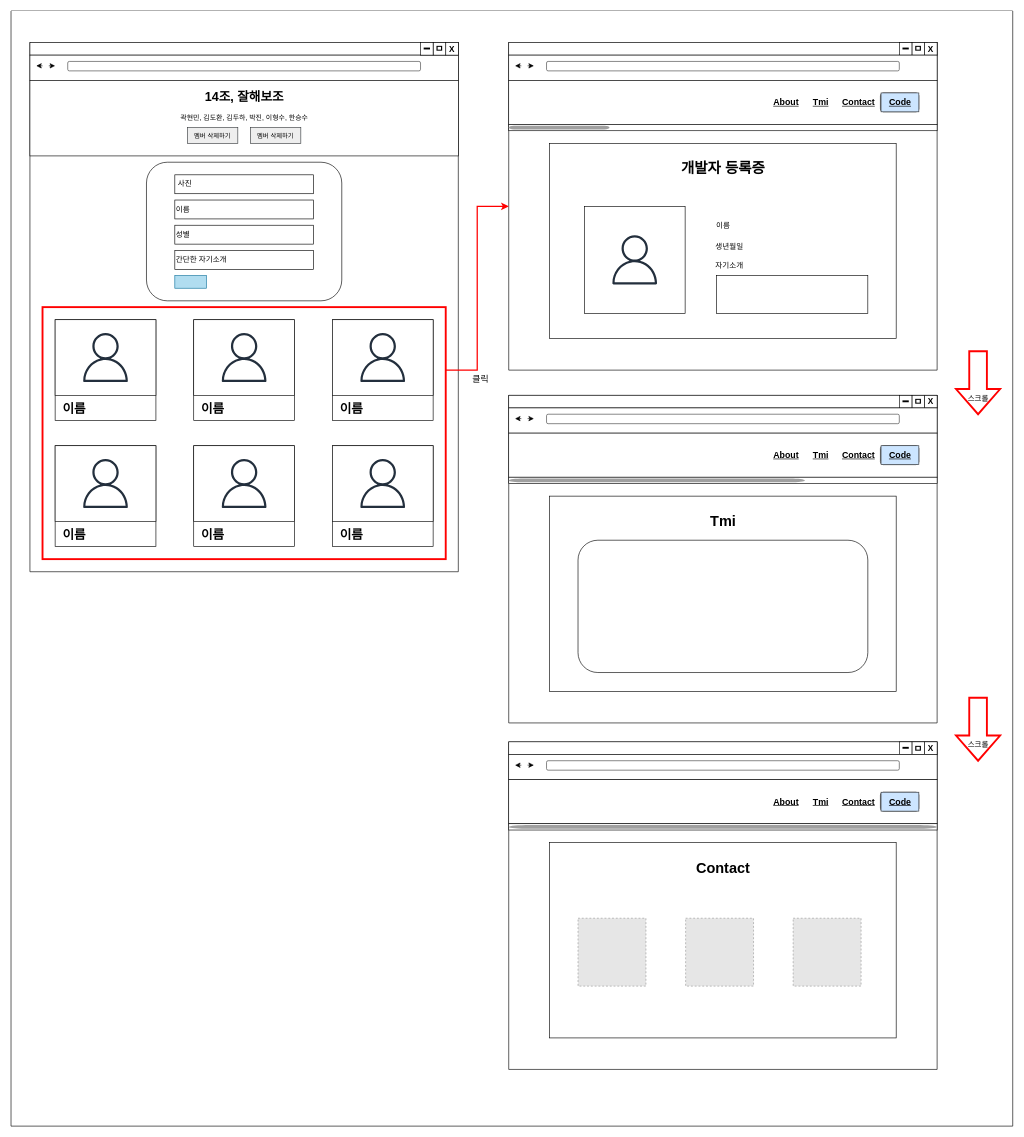
Some shapes in this 1024 by 1137 pixel diagram are drawn without their labels. Grey dashed boxes stand in for pictures. Each missing label, with the centre of its shape:
개인 자기소개: the point at 722,606
자기소개 내용: the point at 792,294
추가하기: the point at 190,281
